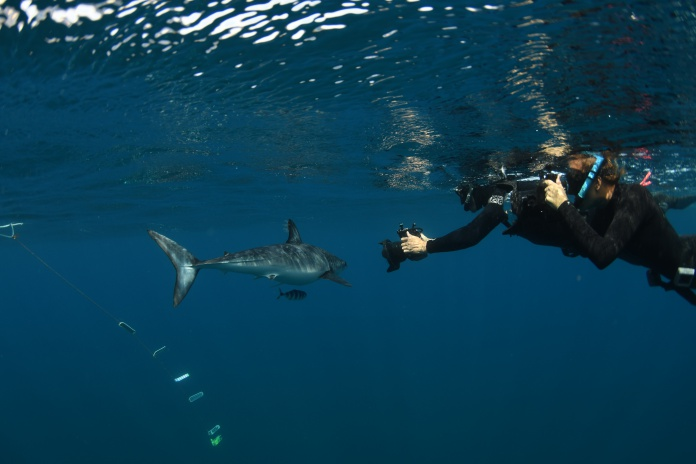Mako: (127, 213, 363, 314)
